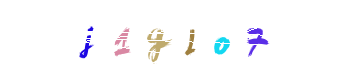1: (128, 0, 208, 80)
7: (181, 0, 261, 80)
G: (134, 0, 214, 80)
J: (96, 0, 176, 80)
L: (155, 0, 235, 80)
O: (159, 0, 239, 80)
